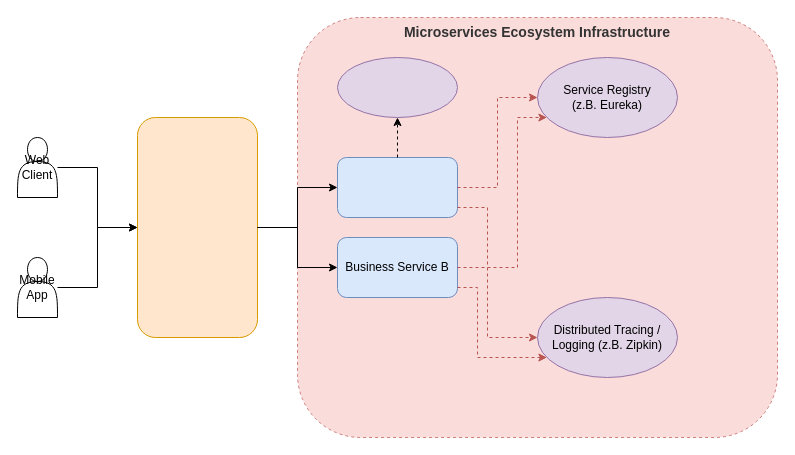
Some shapes in this 795 by 455 pixel diagram are drawn without their labels. Here are the shapes that lost their labels. From the top down, the centre of each, then its label:
At (397,87): "Config Server".
At (397,187): "Business Service A".
At (197,227): "API Gateway / Load Balancer".
